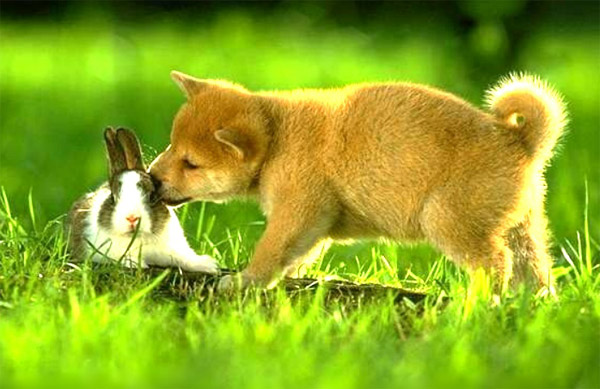dog: (143, 66, 580, 311)
rabbit: (68, 119, 217, 289)
